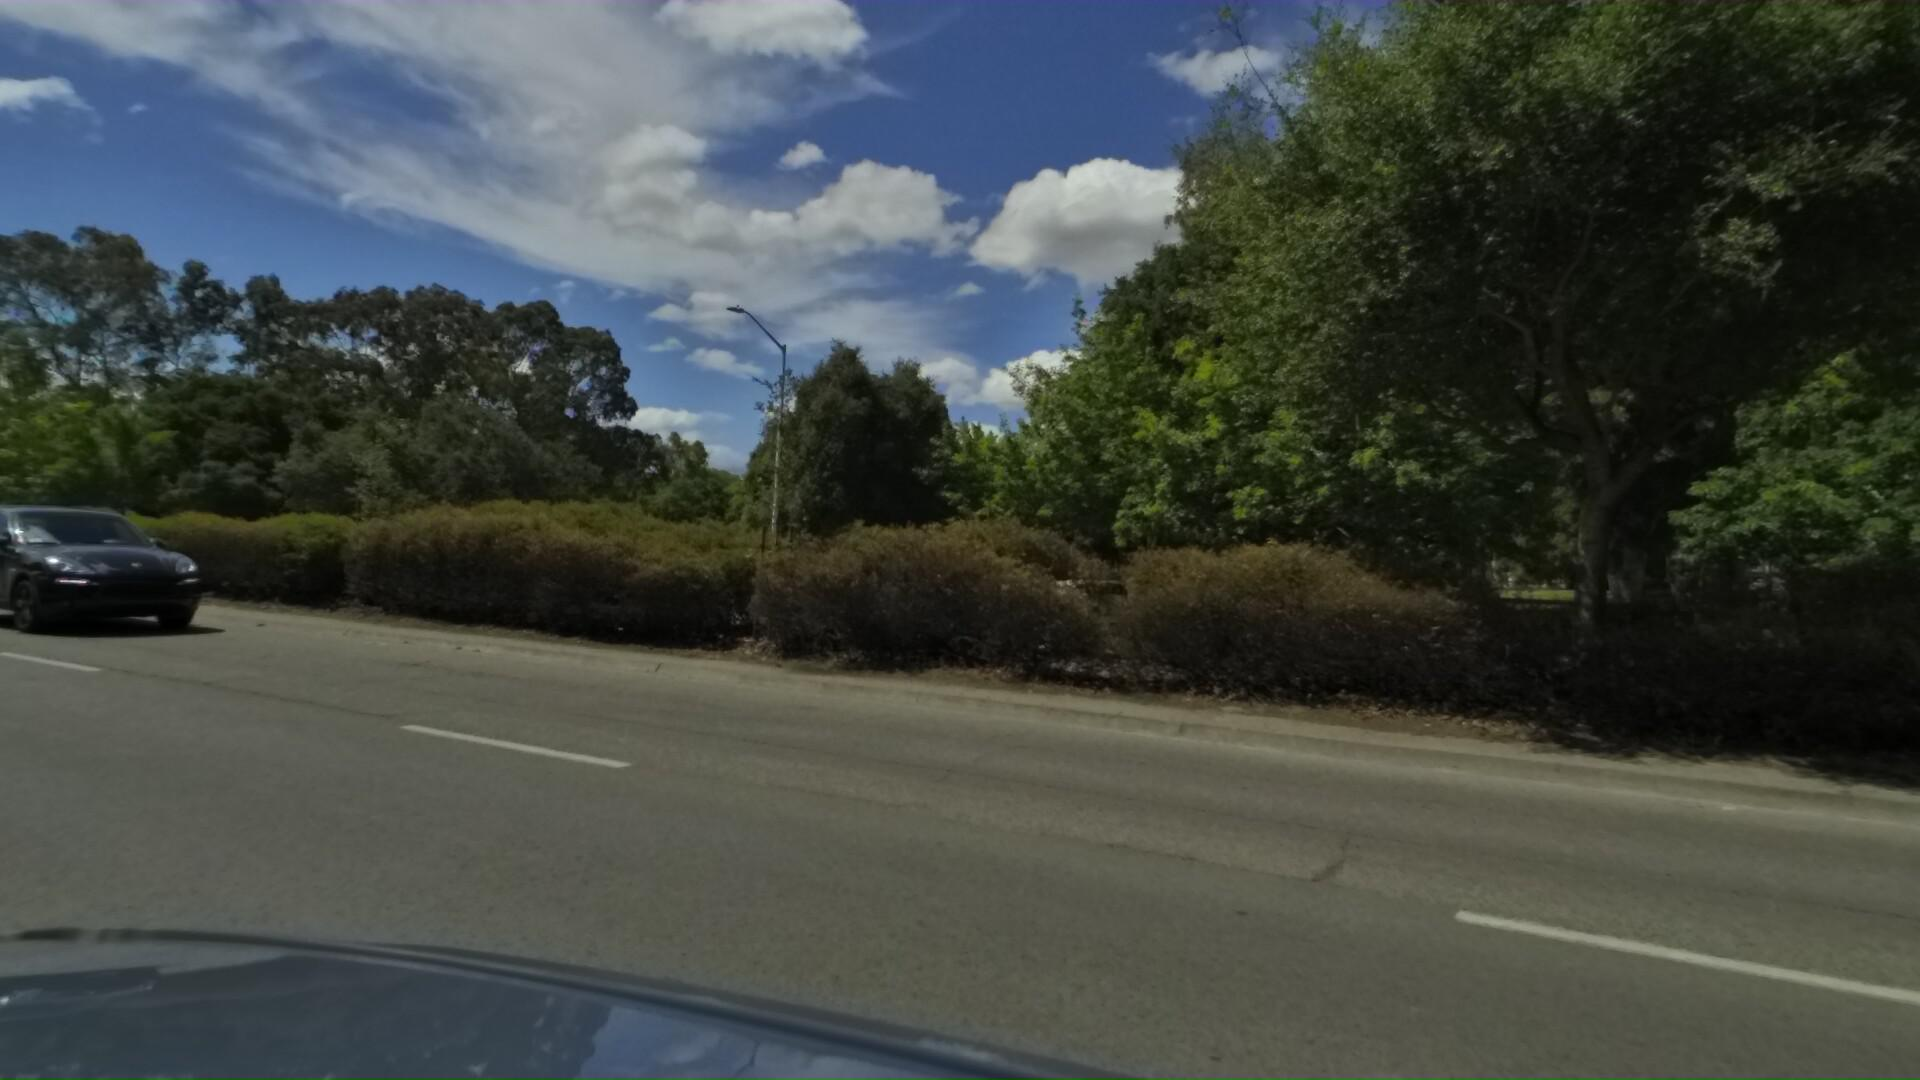car: (0, 498, 223, 644)
